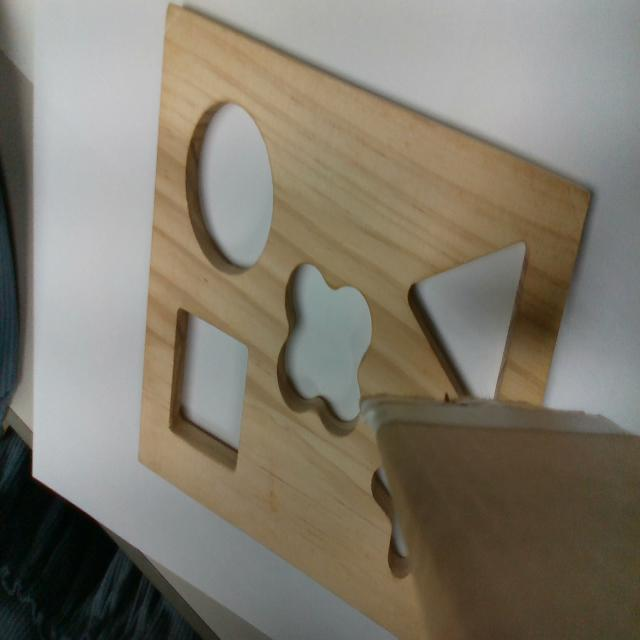circle: (184, 98, 275, 276)
flower: (277, 263, 372, 437)
square: (168, 307, 250, 471)
star: (371, 469, 412, 575)
triangle: (406, 232, 532, 402)
